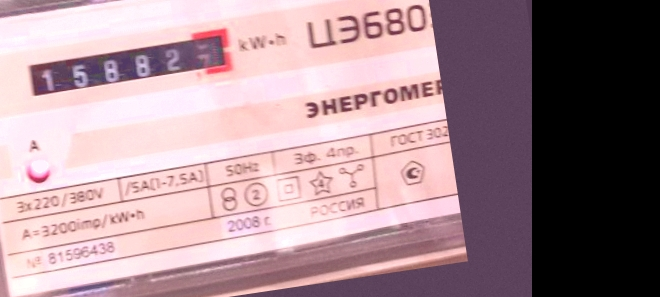1: (39, 66, 57, 93)
2: (163, 45, 183, 73)
5: (70, 61, 89, 89)
7: (196, 50, 212, 68)
8: (101, 57, 121, 83), (132, 50, 151, 77)
screen: (13, 19, 245, 112)
